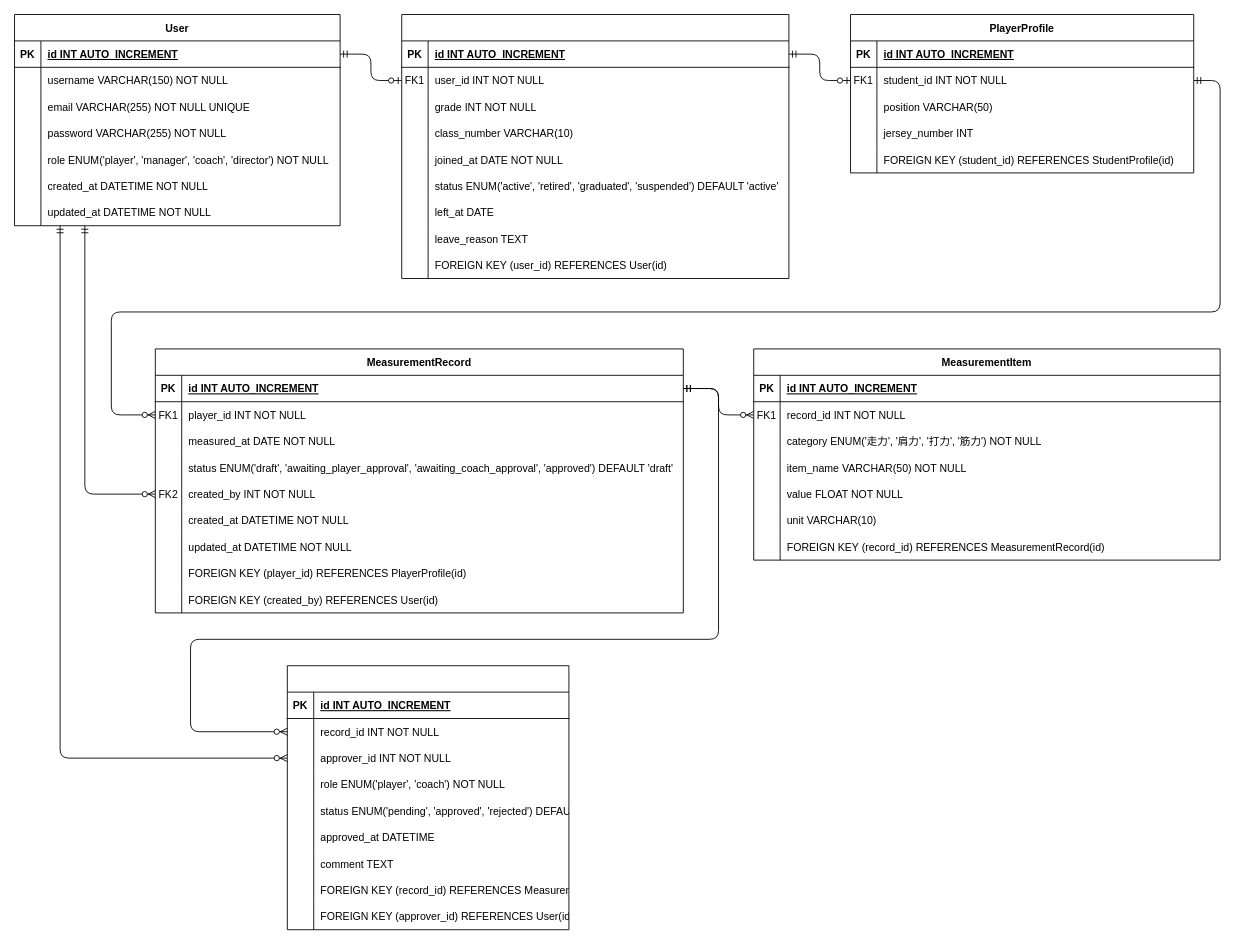
Some shapes in this 1235 by 944 pixel diagram are drawn without their labels. The shapes that lost their labels are listed below. From the top down, each one's box as (x1, y1, x2, y2) in pixels, then its label:
(401, 14, 789, 279): StudentProfile
(286, 665, 569, 930): ApprovalStatus
